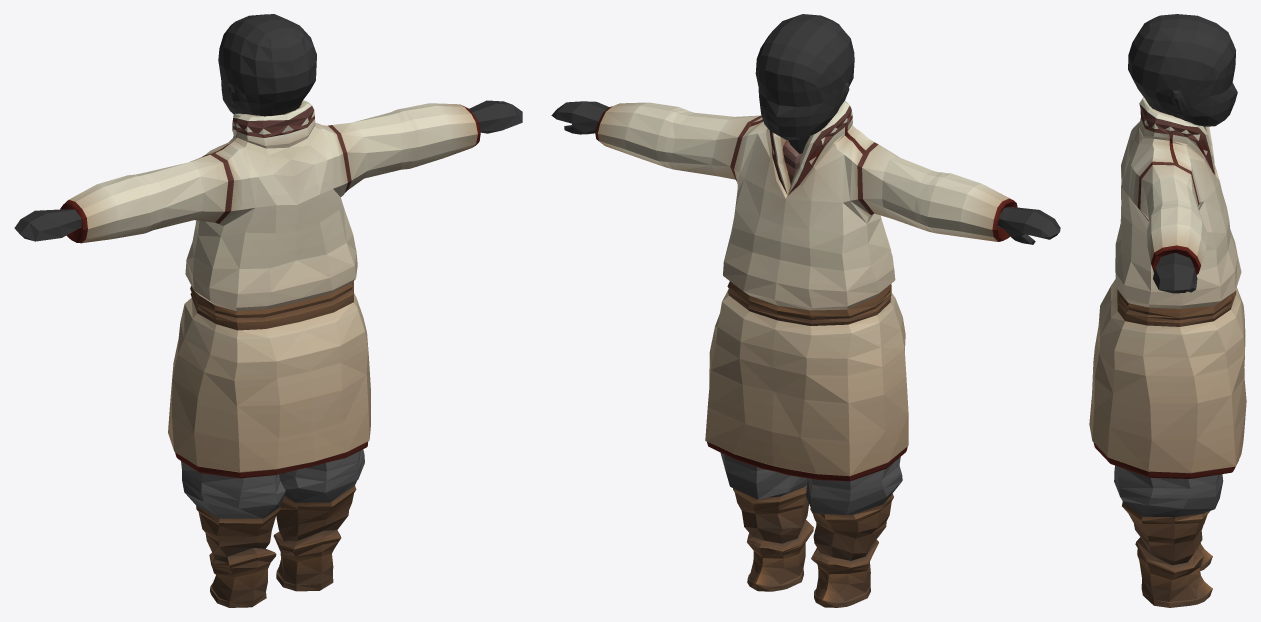
The model's file is CharSkyNPC_Body_AP13Tunic_01.glb.
3 renders of one model, left to right at view 1: azimuth 30°, elevation 25°; view 2: azimuth 150°, elevation 25°; view 3: azimuth 270°, elevation 25°, orthographic.
Parts seen in each view (by area): view 1: CharSkyNPC_Body_AP13Tunic_01; view 2: CharSkyNPC_Body_AP13Tunic_01; view 3: CharSkyNPC_Body_AP13Tunic_01.
Boxes of the visible parts, left/top/right/bottom form: CharSkyNPC_Body_AP13Tunic_01: left=14, top=14, right=522, bottom=607; CharSkyNPC_Body_AP13Tunic_01: left=551, top=14, right=1060, bottom=607; CharSkyNPC_Body_AP13Tunic_01: left=1089, top=14, right=1246, bottom=607.
Bounding box in the file's own units: 13.86 × 14.93 × 3.78.
1 material, 1 textured.
